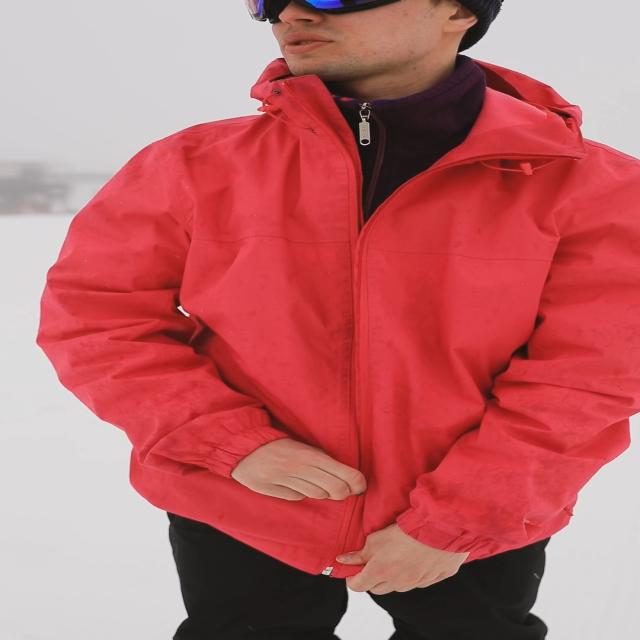Jacket_Wearer: (55, 97, 640, 554)
Person: (43, 0, 640, 640)
